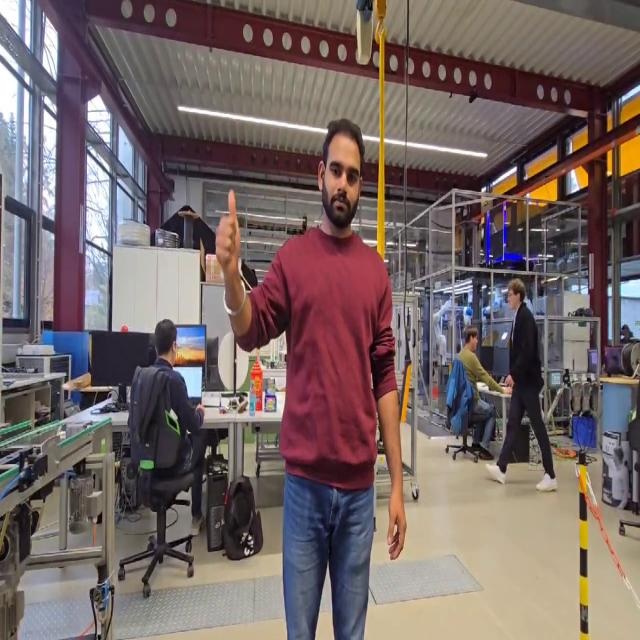thumbs_up: (212, 184, 245, 286)
